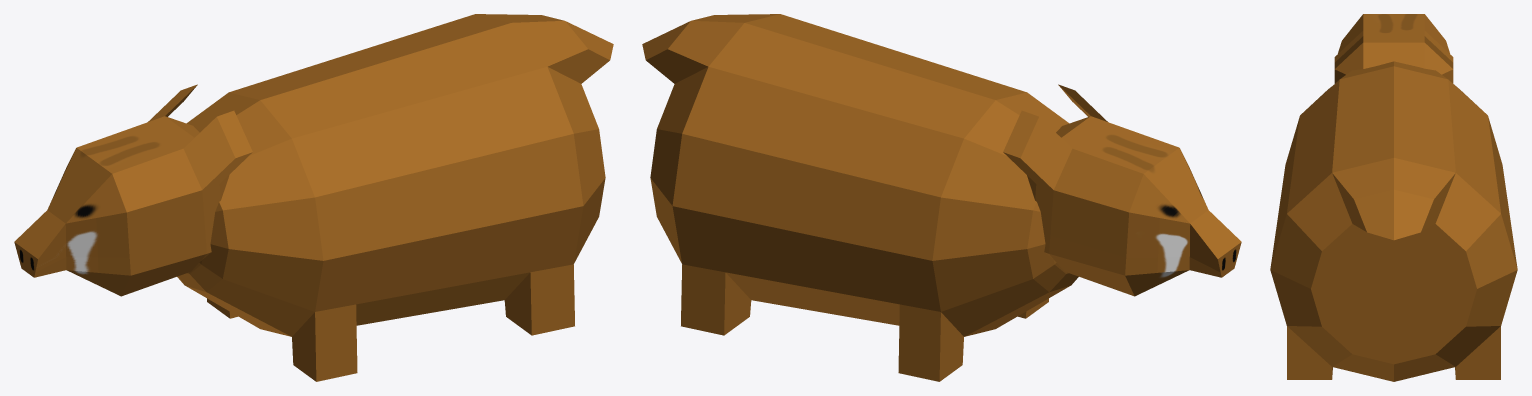
File: boar.fbx
The picture shows the model from 3 angles, left to right: view 1: azimuth 30°, elevation 25°; view 2: azimuth 150°, elevation 25°; view 3: azimuth 270°, elevation 25°; orthographic projection. The views are drawn at different scales.
Parts seen in each view (by area): view 1: Cube; view 2: Cube; view 3: Cube.
Boxes of the visible parts, left/top/right/bottom form: Cube: left=14, top=14, right=613, bottom=381; Cube: left=642, top=14, right=1241, bottom=381; Cube: left=1270, top=14, right=1517, bottom=381.
Bounding box in the file's own units: 144 × 60.96 × 60.96.
